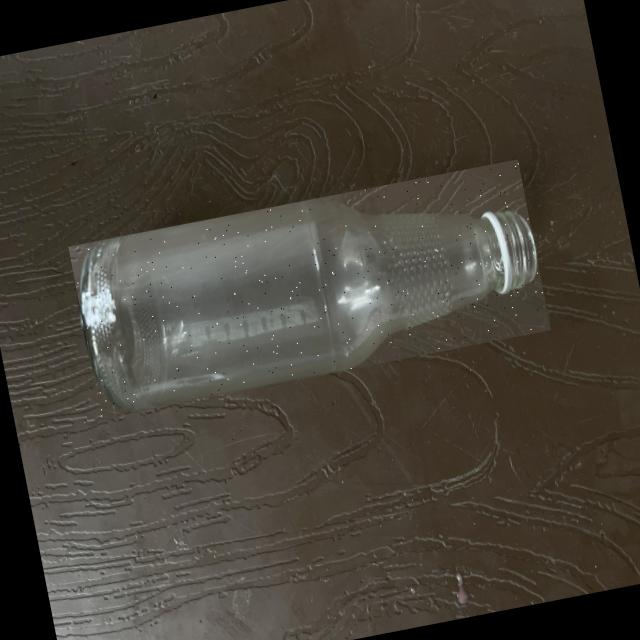Glass_Bottle: (80, 199, 535, 409)
